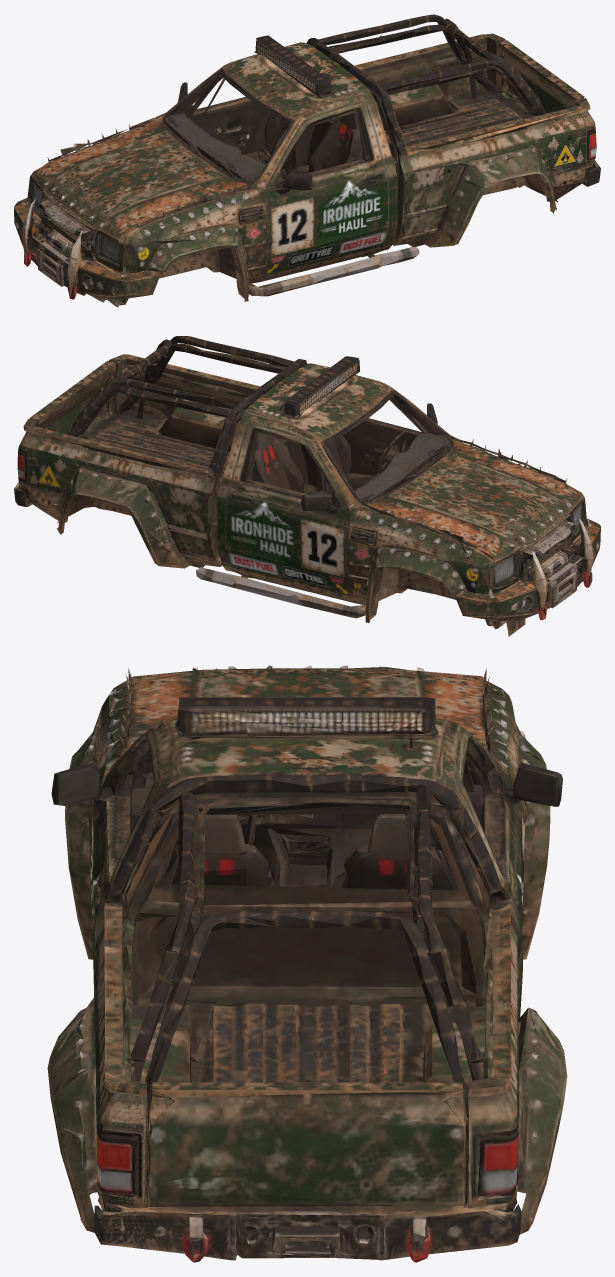
File: ridgeback-custom-stream.glb
3 renders of one model, top to bottom at view 1: azimuth 30°, elevation 25°; view 2: azimuth 150°, elevation 25°; view 3: azimuth 270°, elevation 25°, orthographic. The views are drawn at different scales.
Parts seen in each view (by area): view 1: output_unwrapped; view 2: output_unwrapped; view 3: output_unwrapped.
Part boxes in pixels (x1,y1,x2,y2): output_unwrapped: (14, 14, 600, 307); output_unwrapped: (14, 336, 600, 636); output_unwrapped: (47, 665, 567, 1262).
Bounding box in the file's own units: 1.89 × 0.6416 × 0.8308.
Materials: 1 (1 with a texture image).
